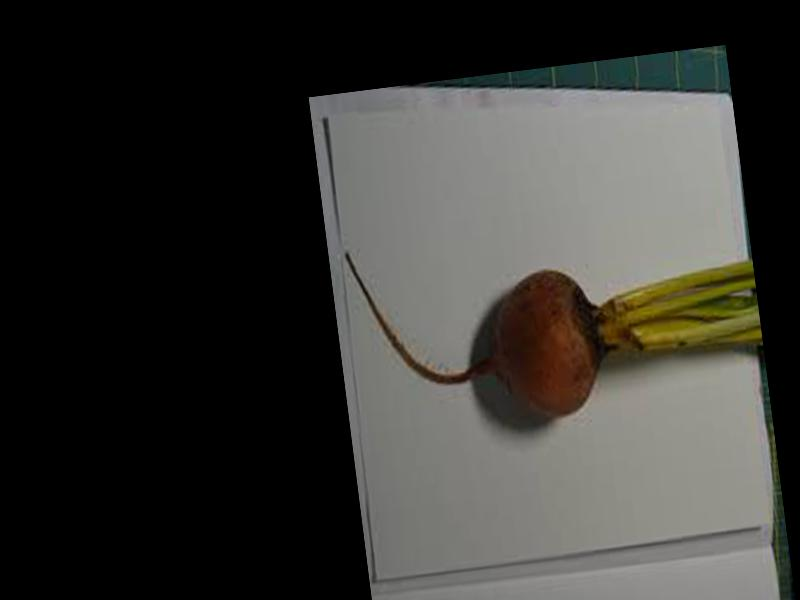Beet: (345, 204, 764, 440)
